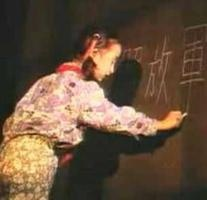person without safety: (45, 23, 127, 122)
